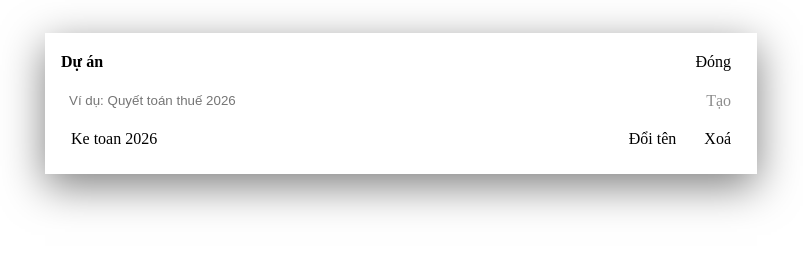
Test: revision › 409 hien mot cau RIENG va tai lai, khong bao "tham so sai"
Click the button with aria-label "Đổi tên: Ke toan 2026" at (653,139), box [619,126,686,152]
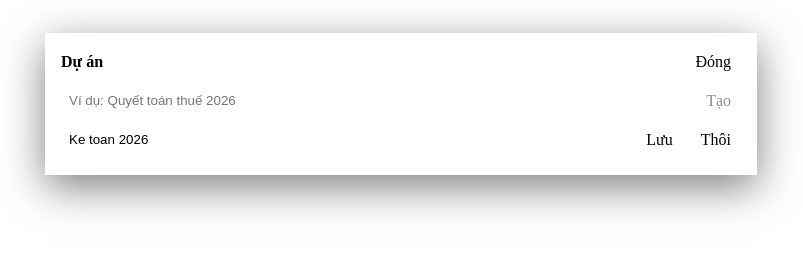
Click the button with aria-label "Lưu tên: Ke toan 2026" at (660,140), box [636,126,683,152]
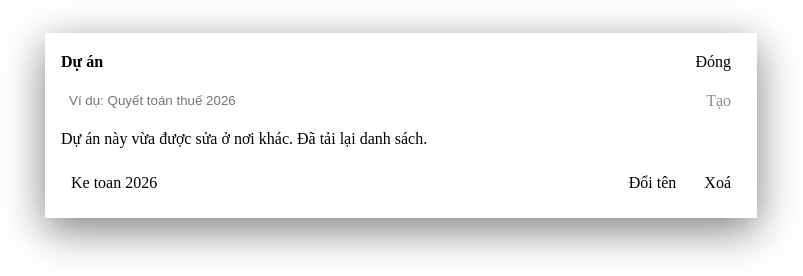
expect the text "sửa ở nơi khác" is shown: met, box [61,130,427,147]
